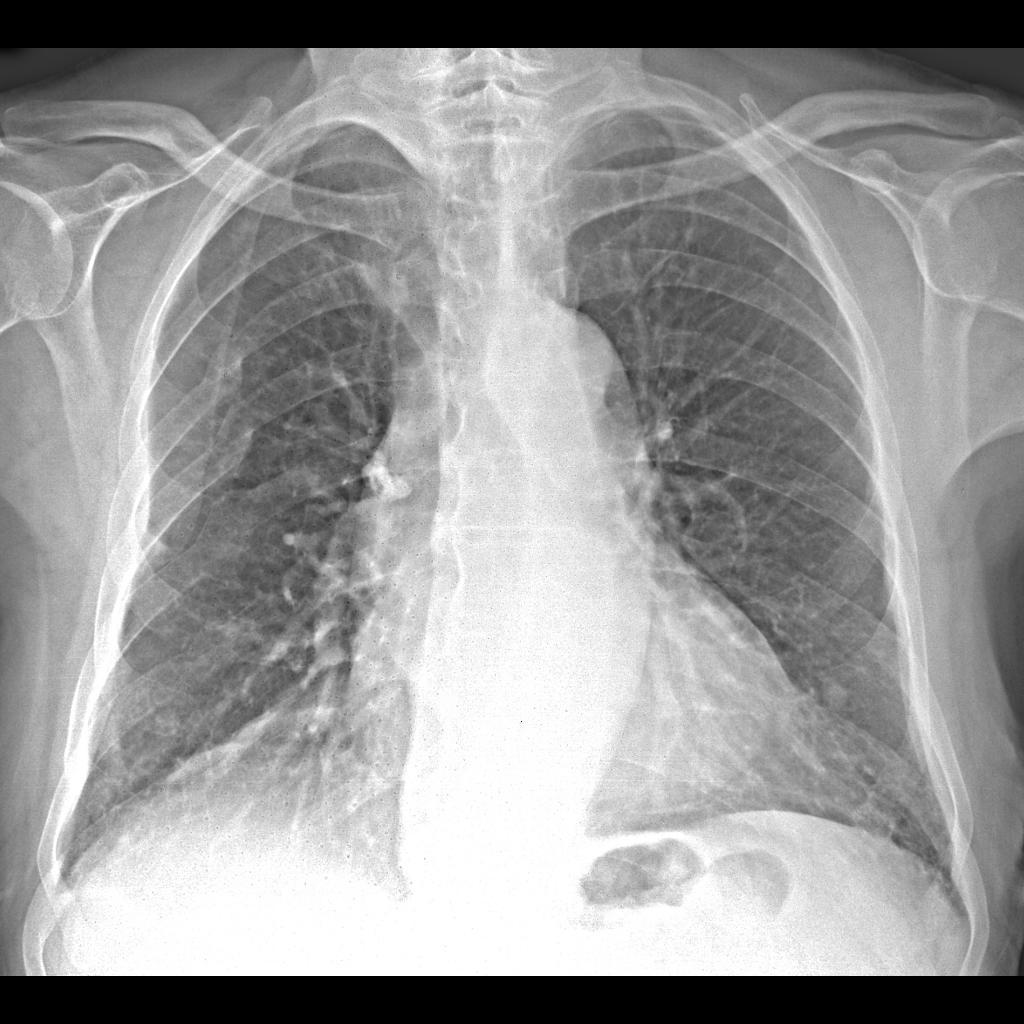Nodule: (822, 682, 865, 720)
